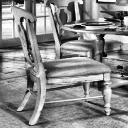chair_success: (2, 3, 122, 126)
